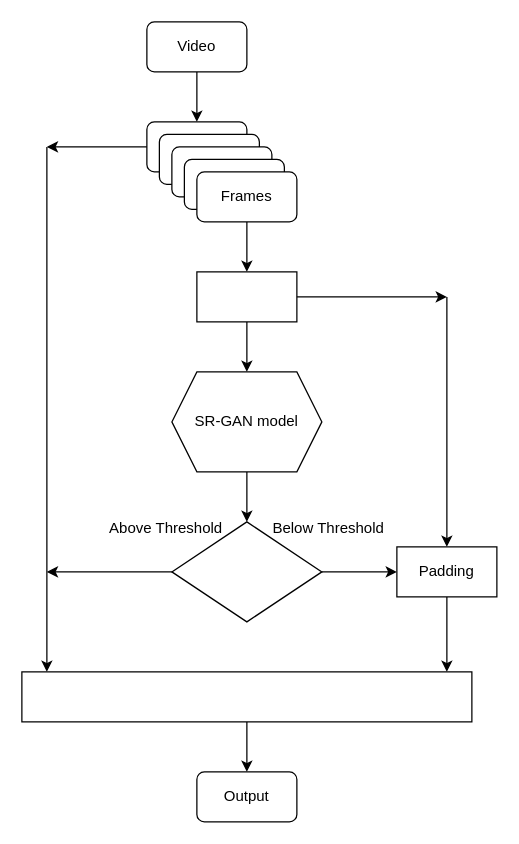
Image size: 519x844. Some labels were removed from this diagram. The shapes that lost their labels are listed below. From the top down, each one's centre as x and y in pixels, then its label:
pixel 246 296: Downscale
pixel 246 571: Compare with original Frame
pixel 246 696: Append Frame
